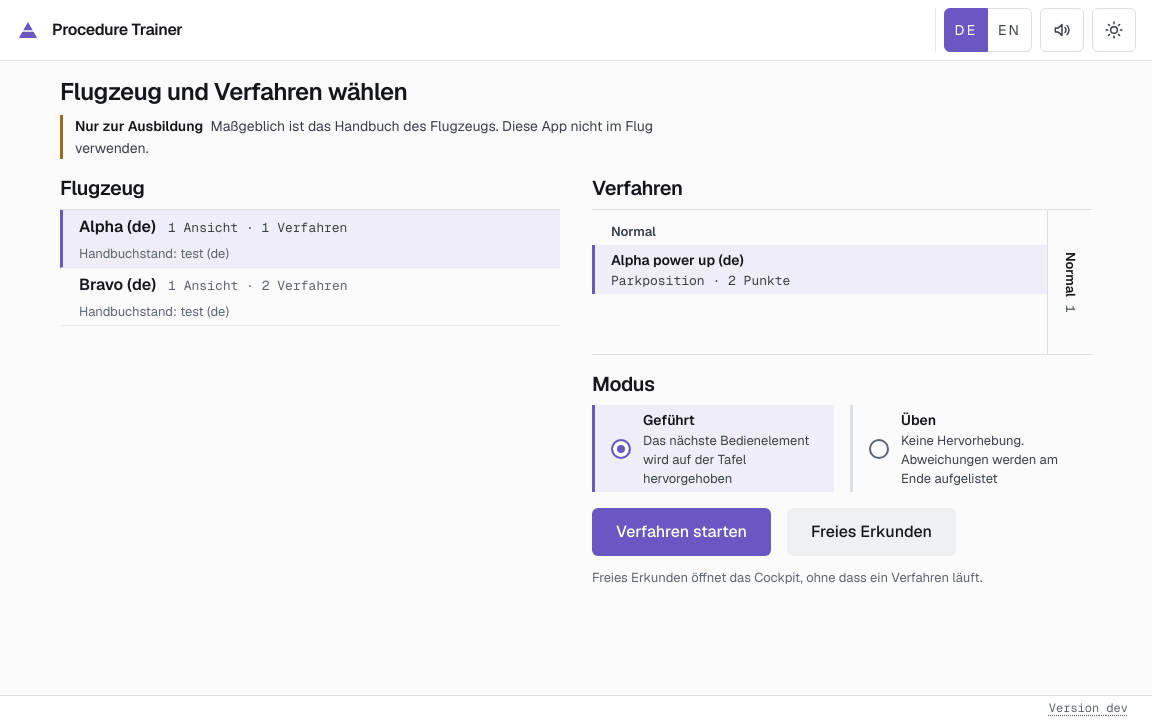
Test case: default language › falls back to the navigator language when localStorage throws
Expected: the heading "Flugzeug und Verfahren wählen" is shown, 60,76 -> 408,107
Click the button with aria-label "English" at (1010, 30), box 988,8 -> 1032,52
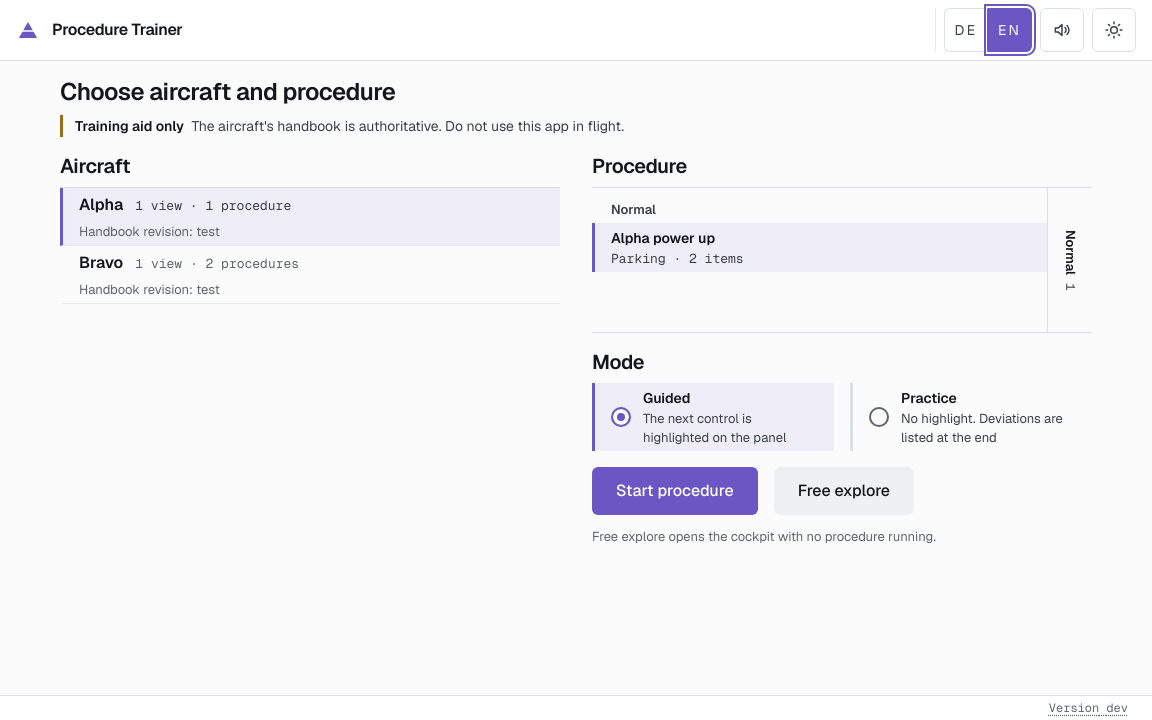
Expected: the heading "Choose aircraft and procedure" is shown, 60,76 -> 395,107
